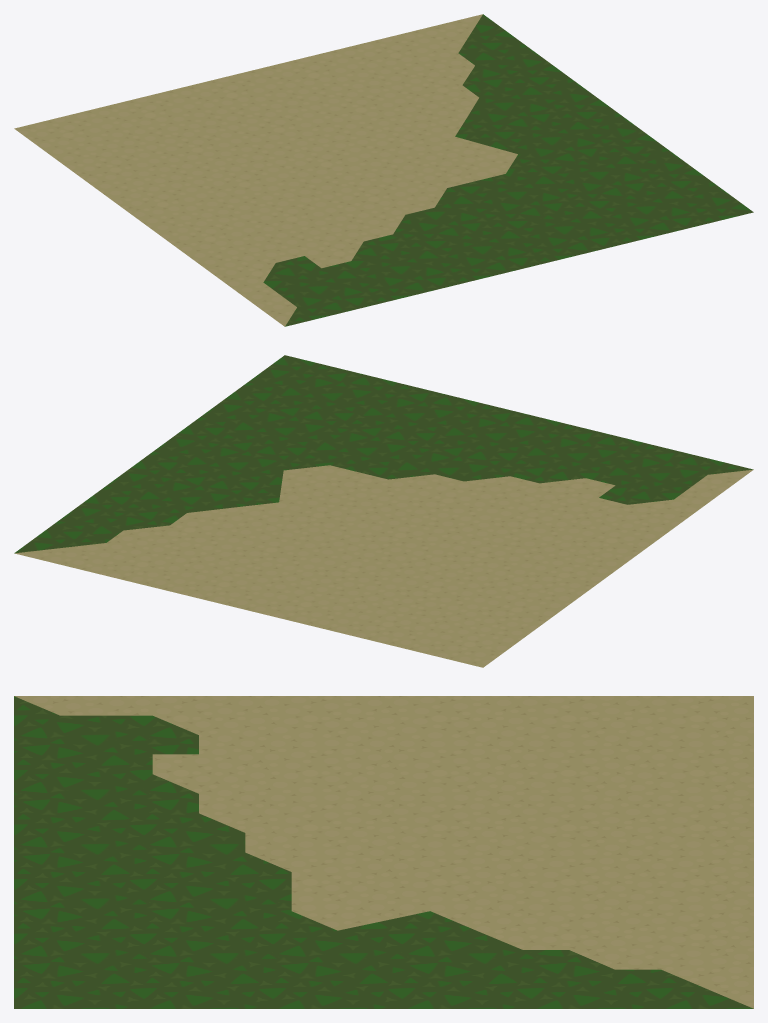
The model's file is chunk_0013.glb.
The picture shows the model from 3 angles, top to bottom: view 1: azimuth 30°, elevation 25°; view 2: azimuth 150°, elevation 25°; view 3: azimuth 270°, elevation 25°; orthographic projection. The views are drawn at different scales.
Visible parts, largest first — view 1: chunk_0013; view 2: chunk_0013; view 3: chunk_0013.
Boxes of the visible parts, <box> form: chunk_0013: <box>14,14,753,326</box>; chunk_0013: <box>14,355,753,667</box>; chunk_0013: <box>14,696,753,1008</box>.
Bounding box in the file's own units: 10 × 0 × 10.
Materials: 2 (2 with a texture image).
